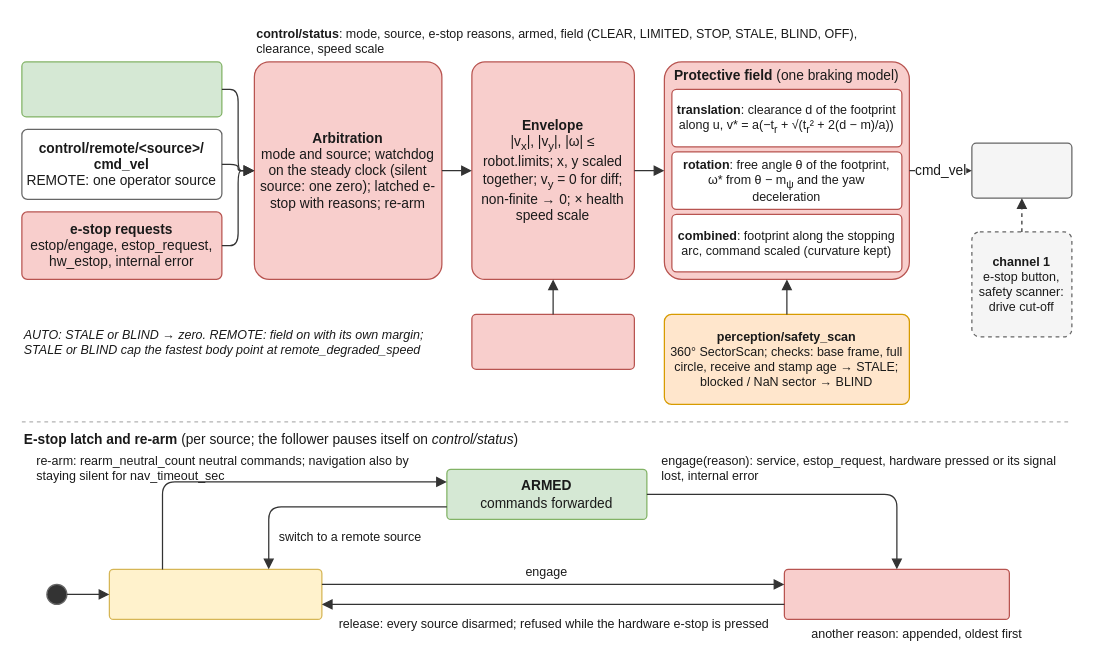
The diagram is 1095 pixels wide and 665 high, and some of its shapes have lost their labels. The shapes that lost their labels are listed below. From the top down, each one's box as (x1, y1, x2, y2) in pixels, then its label:
(21, 61, 222, 117): control/nav_cmd_vel AUTO: path follower
(971, 142, 1072, 198): robot driver
(471, 313, 634, 369): health/status speed_scale (use_health_limit)
(108, 568, 322, 619): DISARMED zero instead of commands
(783, 568, 1009, 619): ENGAGED zero at once, then streamed
